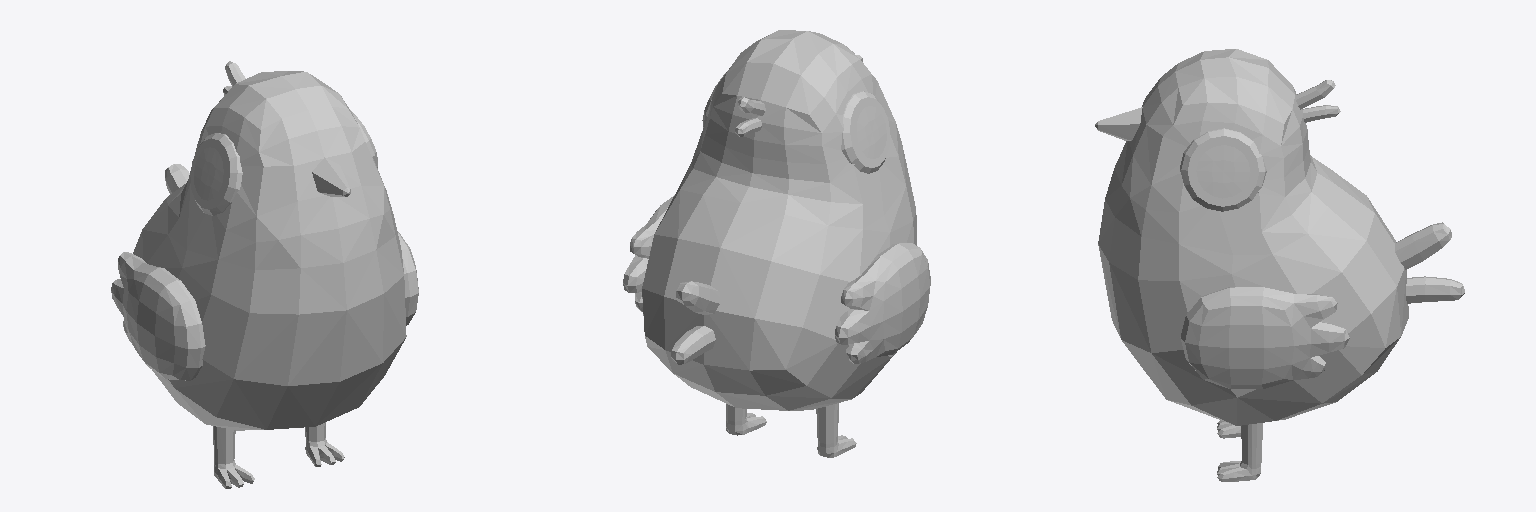
File: Sparrow_LOD1.obj
The picture shows the model from 3 angles: view 1: azimuth 30°, elevation 25°; view 2: azimuth 150°, elevation 25°; view 3: azimuth 270°, elevation 25°; orthographic projection.
Visible parts, largest first — view 1: Mesh_Sparrow_LOD1; view 2: Mesh_Sparrow_LOD1; view 3: Mesh_Sparrow_LOD1.
Boxes of the visible parts, box(x1,y1,x2,y2) form: Mesh_Sparrow_LOD1: box(111, 61, 418, 488); Mesh_Sparrow_LOD1: box(623, 30, 930, 457); Mesh_Sparrow_LOD1: box(1095, 49, 1464, 481).
Bounding box in the file's own units: 0.4502 × 0.6727 × 0.5689.